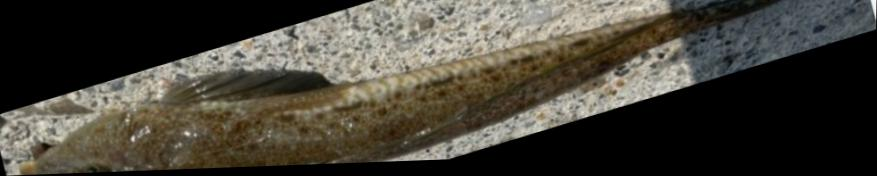fish: (14, 0, 795, 175)
